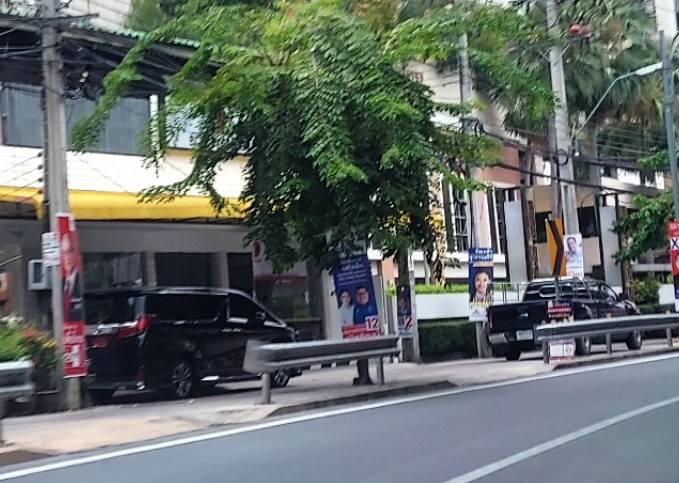Banner: (333, 222, 387, 344), (462, 250, 497, 320), (562, 237, 588, 285)
